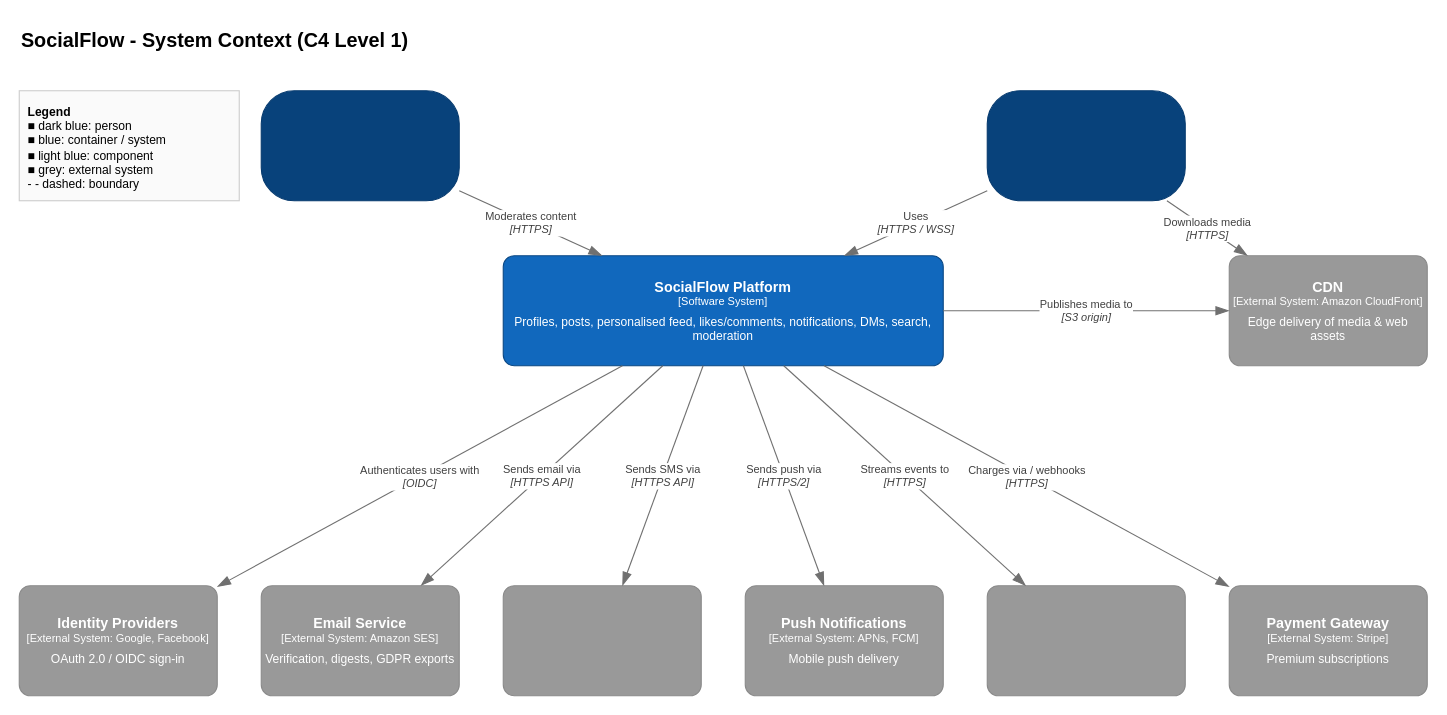
The diagram is 1447 pixels wide and 715 high, and some of its shapes have lost their labels. Here are the shapes that lost their labels. From the top down, the centre of each, then its label:
At (359,145): "Moderator / Admin [Person] Reviews reported content, manages accounts".
At (1085,145): "Social Media User [Person] Posts, follows, reads feed, chats (iOS, Android, web)".
At (601,640): "SMS Service [External System: Twilio] Phone verification, 2FA".
At (1085,640): "Analytics Platform [External System] Product analytics (consented events)".
